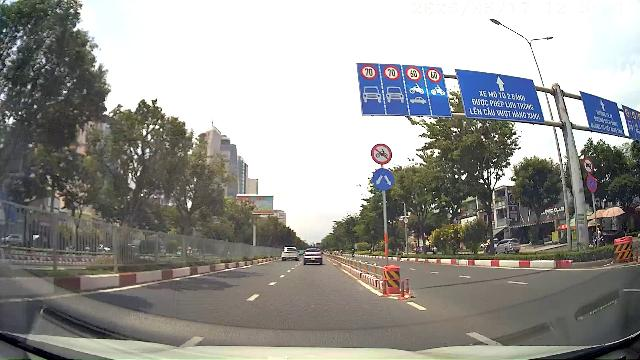127-toc-do-toi-da-60: (404, 66, 422, 82), (426, 68, 442, 84)
127-toc-do-toi-da-70: (360, 64, 378, 80), (382, 65, 400, 81)
130-cam-dung-va-do-xe: (586, 173, 598, 192)
